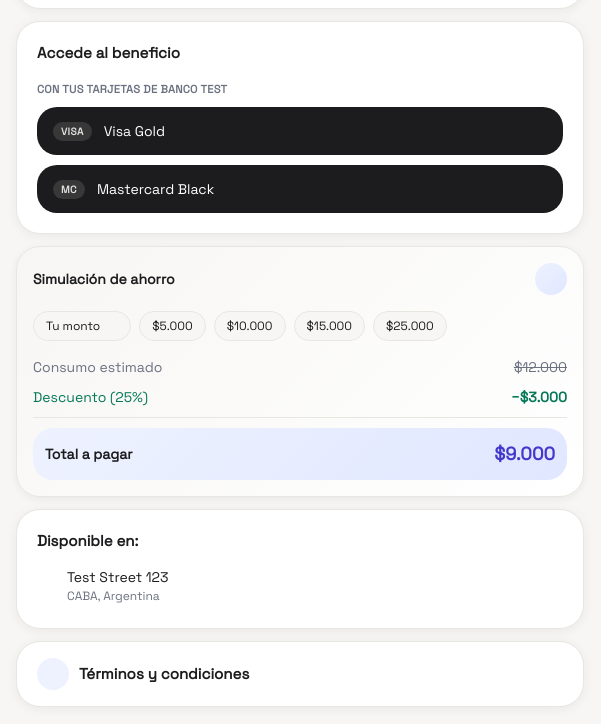
Test: Benefit detail page content › renders the current benefit details from a direct merchant lookup
(page scrolled)
Check: the text "Accede al beneficio" is shown, box top-left (37, 43), bottom-right (180, 62)
Check: the text "Con tus tarjetas de Banco Test" is shown, box top-left (37, 82), bottom-right (227, 96)
Click the button "Términos y condiciones" at (53, 674), box top-left (17, 642), bottom-right (583, 706)
(page scrolled)
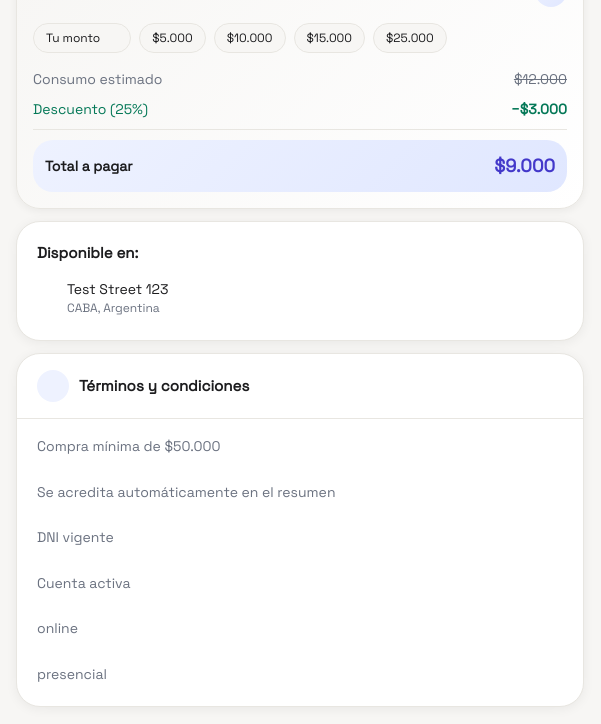
Check: the text "Compra mínima de $50.000" is shown, box top-left (37, 437), bottom-right (336, 683)
